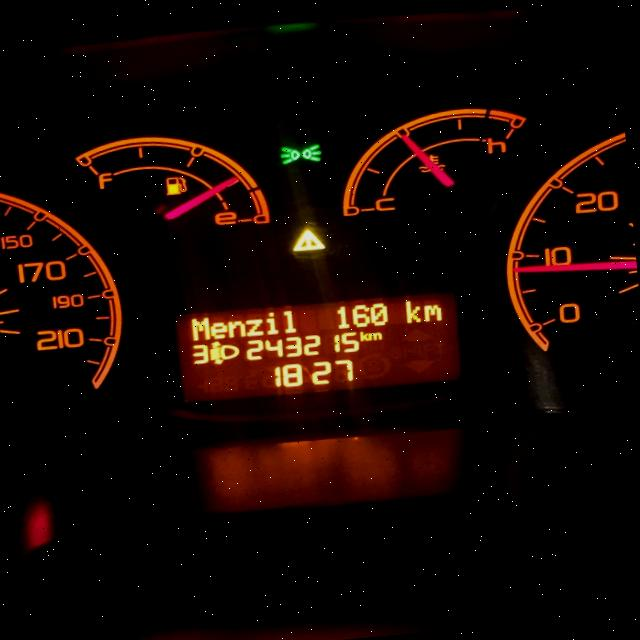odometer: (172, 288, 467, 404)
